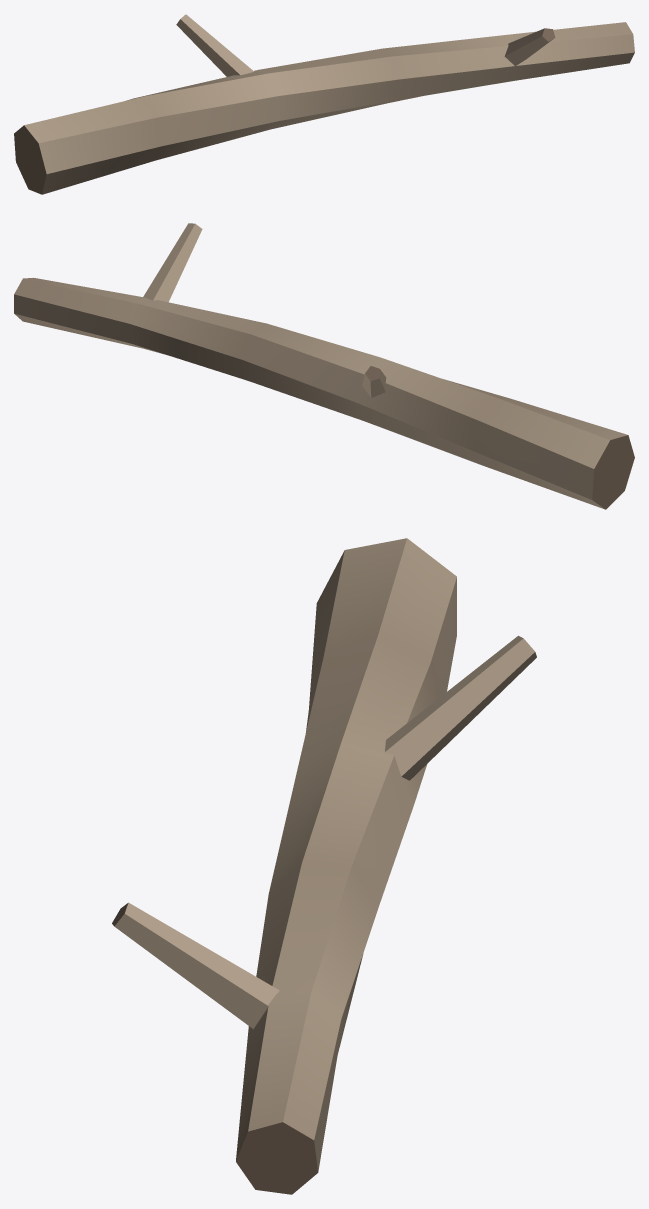
File: driftwood_a.glb
The picture shows the model from 3 angles, top to bottom: view 1: azimuth 30°, elevation 25°; view 2: azimuth 150°, elevation 25°; view 3: azimuth 270°, elevation 25°; orthographic projection. The views are drawn at different scales.
Parts seen in each view (by area): view 1: driftwood_a; view 2: driftwood_a; view 3: driftwood_a.
Part boxes in pixels (<box>): driftwood_a: <box>14,14,634,194</box>; driftwood_a: <box>14,223,634,509</box>; driftwood_a: <box>112,538,536,1194</box>.
Size of the model in its own units: 2.62 by 0.4737 by 0.8434.
